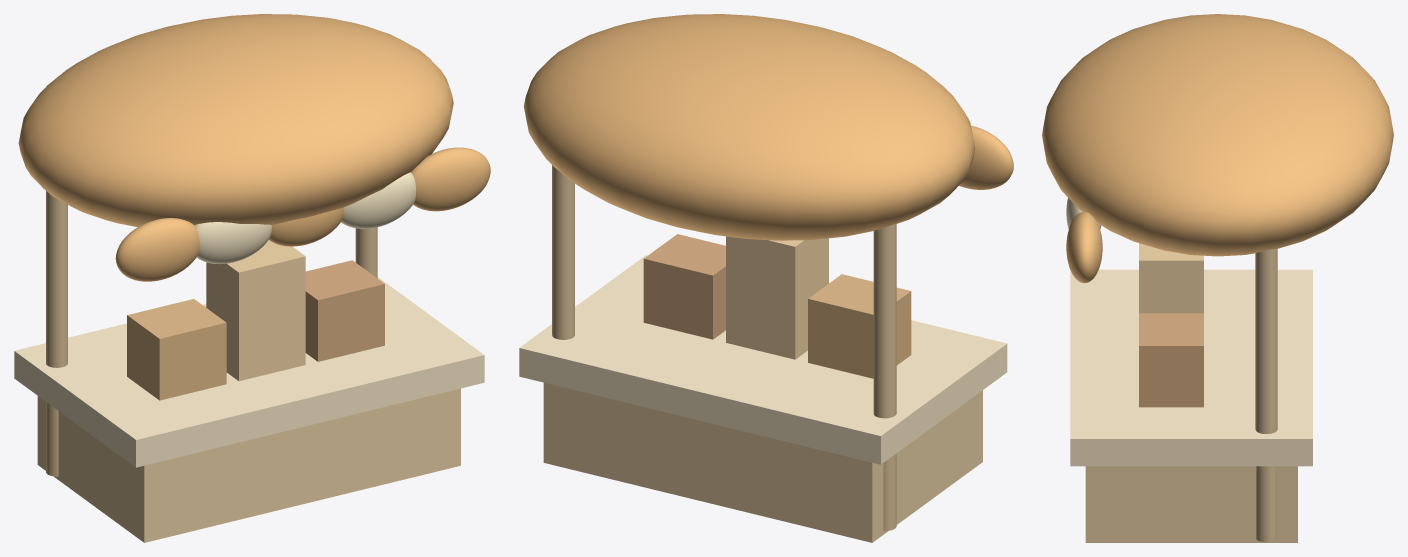
Rendered from fair-parcel-trail.glb.
3 views of the same model, side by side, from view 1: azimuth 30°, elevation 25°; view 2: azimuth 150°, elevation 25°; view 3: azimuth 270°, elevation 25° (orthographic). The views are drawn at different scales.
Visible parts, largest first — view 1: fair-parcel-trail; view 2: fair-parcel-trail; view 3: fair-parcel-trail.
Part boxes in pixels (bbox=[...]): fair-parcel-trail: bbox=[14, 14, 490, 542]; fair-parcel-trail: bbox=[519, 14, 1013, 542]; fair-parcel-trail: bbox=[1042, 14, 1393, 542].
Size of the model in its own units: 2.26 by 2.21 by 1.74.
